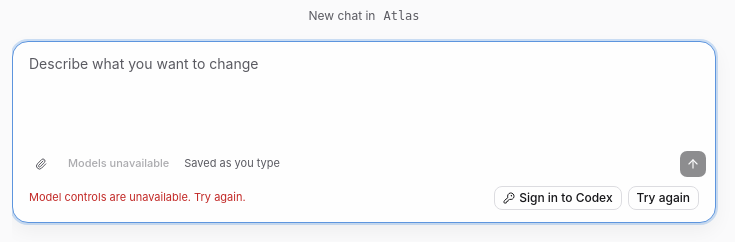
Test: keeps the draft usable when project controls fail and retries inline
Check: the message shows "Model controls are unavailable. Try again.", box [29,190,246,204]
Type "The draft remains editable" into the text box named "Draft for Atlas".
click(364, 94); type("The draft remains editable")  # box [13,42,715,146]
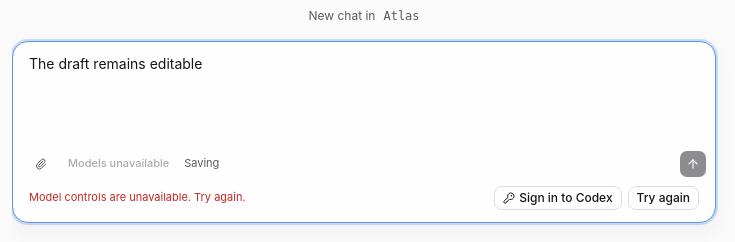
Click the button "Sign in to Codex".
click(558, 198)  # box [494,186,622,210]
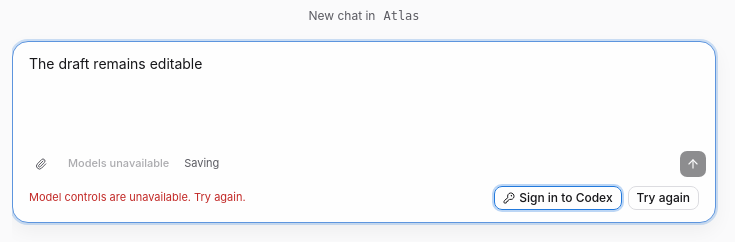
Click the button "Try again".
click(663, 198)  # box [628,186,699,210]
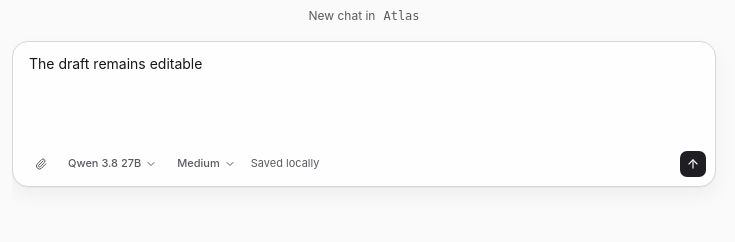
Check: the button with aria-label "Model: Qwen 3.8 27B" is shown, box [59,152,166,176]
Check: the text "Model controls are unavailable. Try again." is gone
